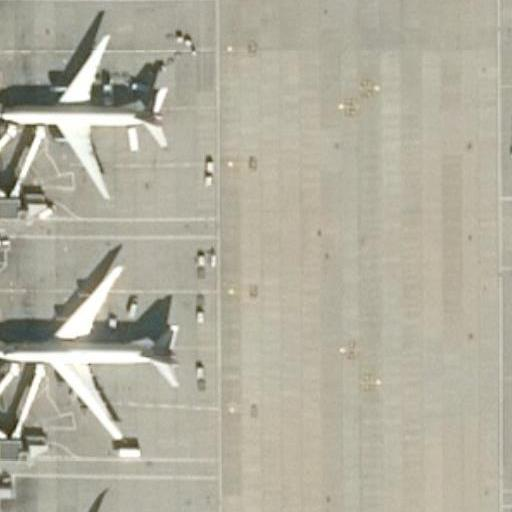Aircraft: (5, 254, 188, 444), (2, 23, 171, 195), (9, 511, 166, 512), (501, 503, 512, 512)
